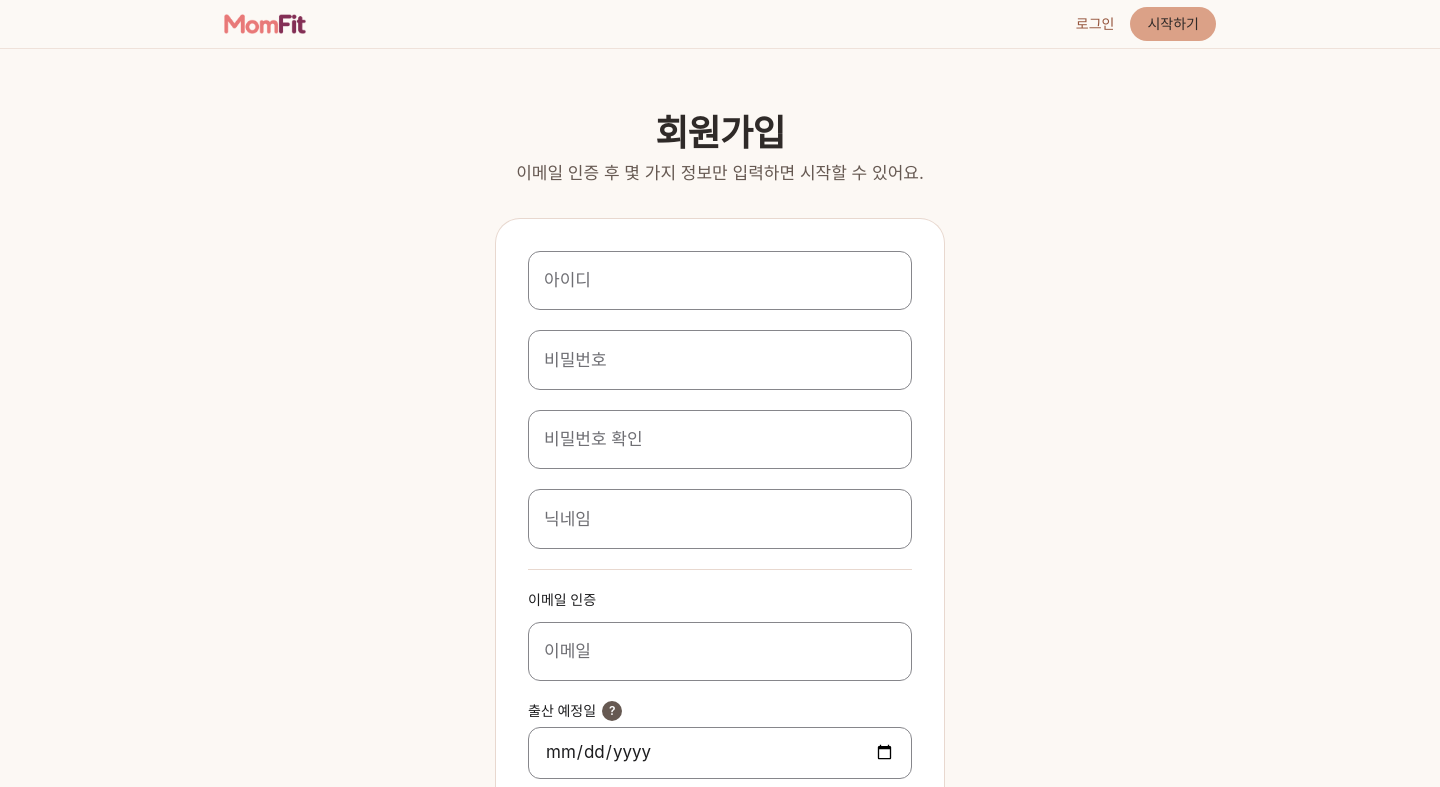
이메일 인증 입력 › 코드를 보내면 재발송 대기 시간을 보여준다
Type "mom@example.com" into the field labelled "이메일" at (720, 651), box [528, 622, 912, 681]
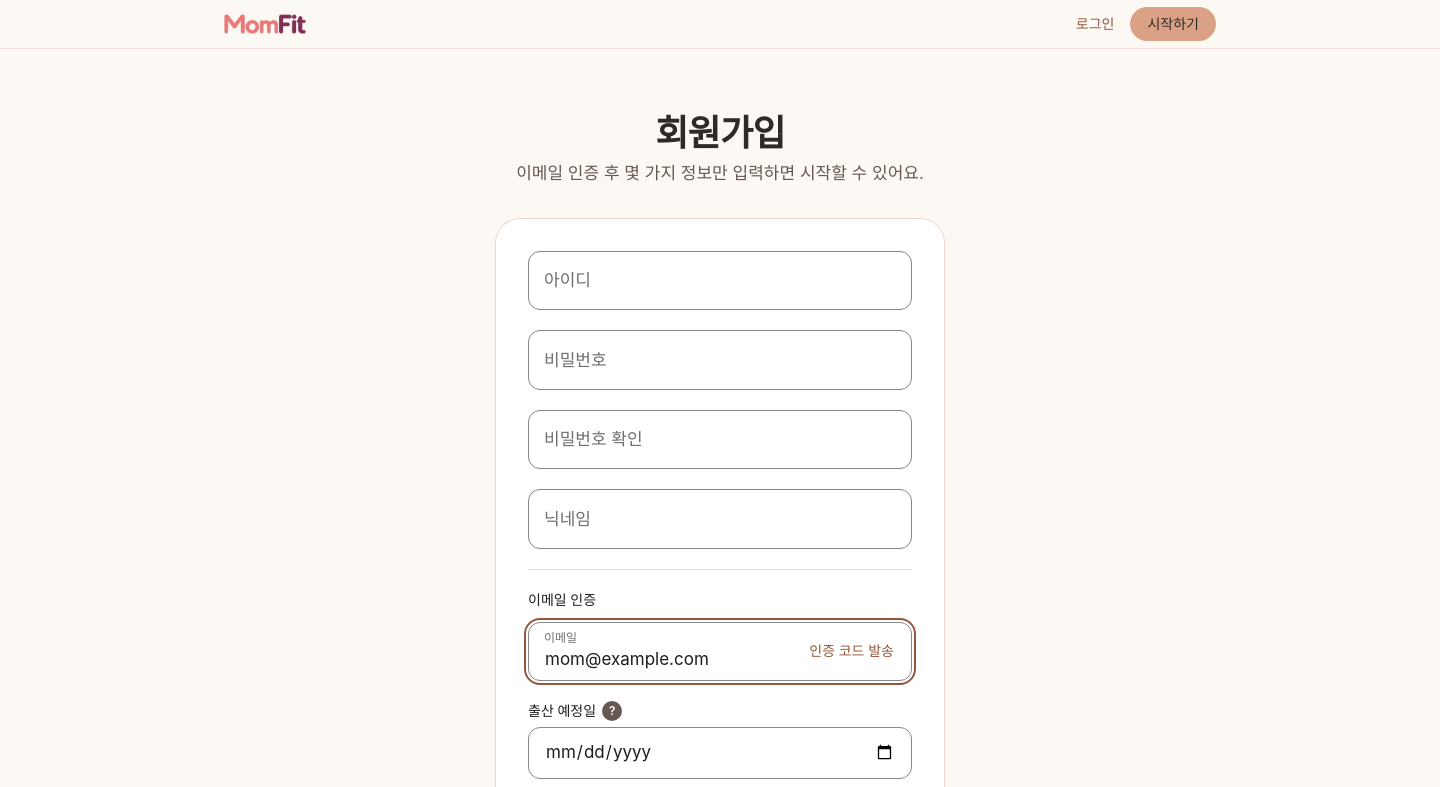
Click the button "인증 코드 발송" at (852, 651), box [803, 637, 900, 665]
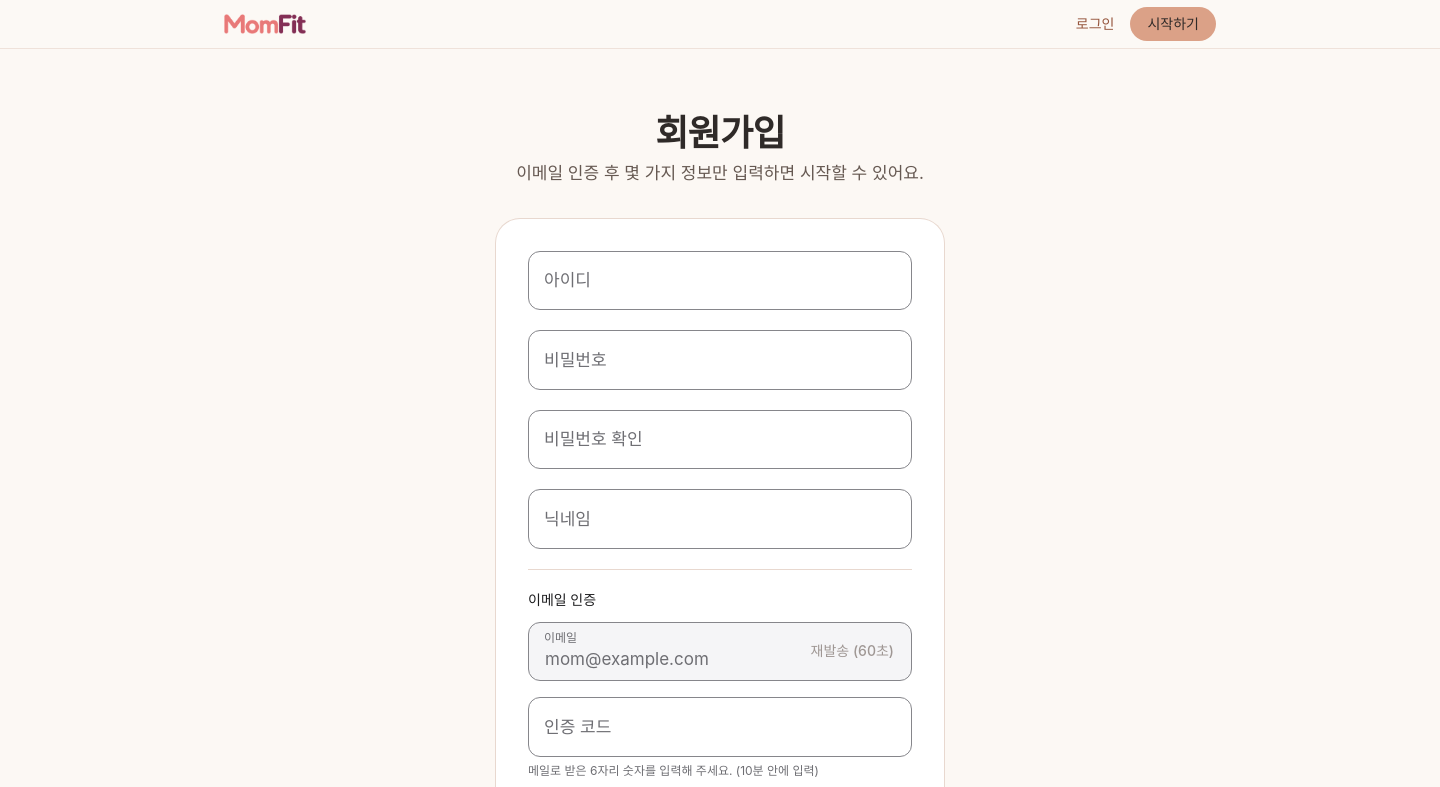
Expected: the button "재발송 (60초)" is disabled, [805, 637, 900, 665]
